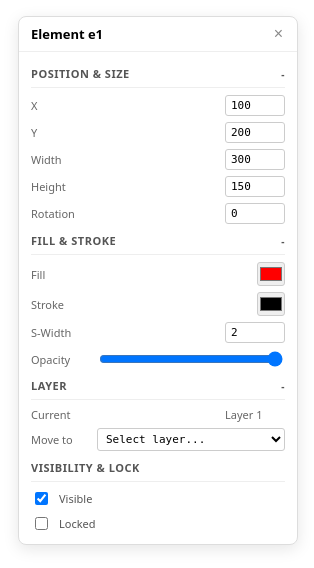
Test: PropertyPanel › sections can be collapsed and expanded
Click the element showing "Position & Size -" at (158, 74), box [31, 60, 285, 88]
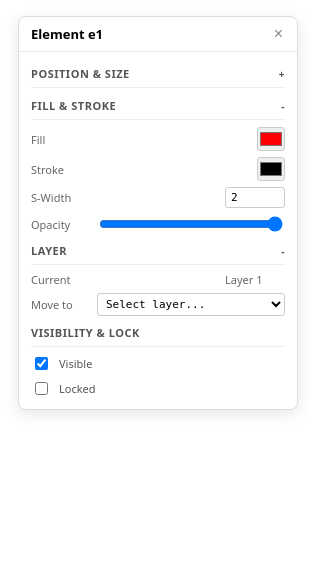
Result: the element showing "Position & Size +" is shown
Click the element showing "Position & Size +" at (158, 74), box [31, 60, 285, 88]
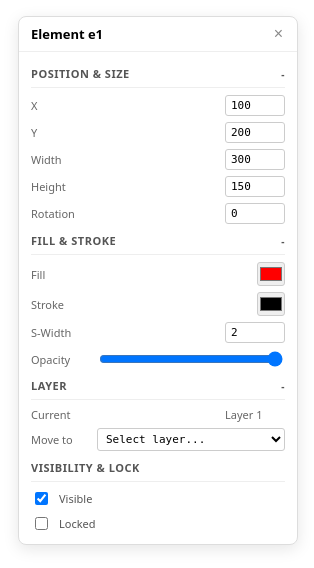
Result: the element showing "Position & Size -" is shown at [31, 60, 285, 88]
